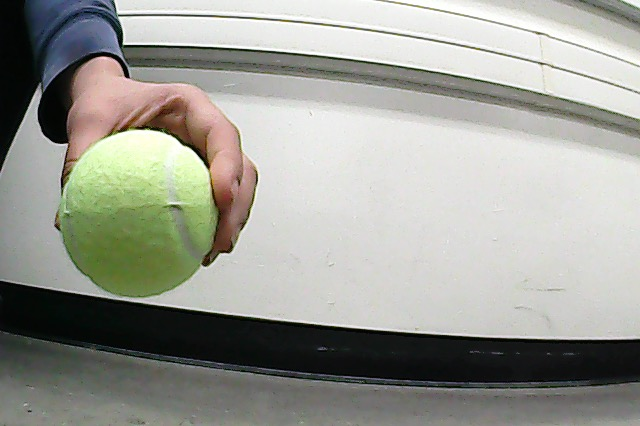ball: (56, 129, 222, 301)
